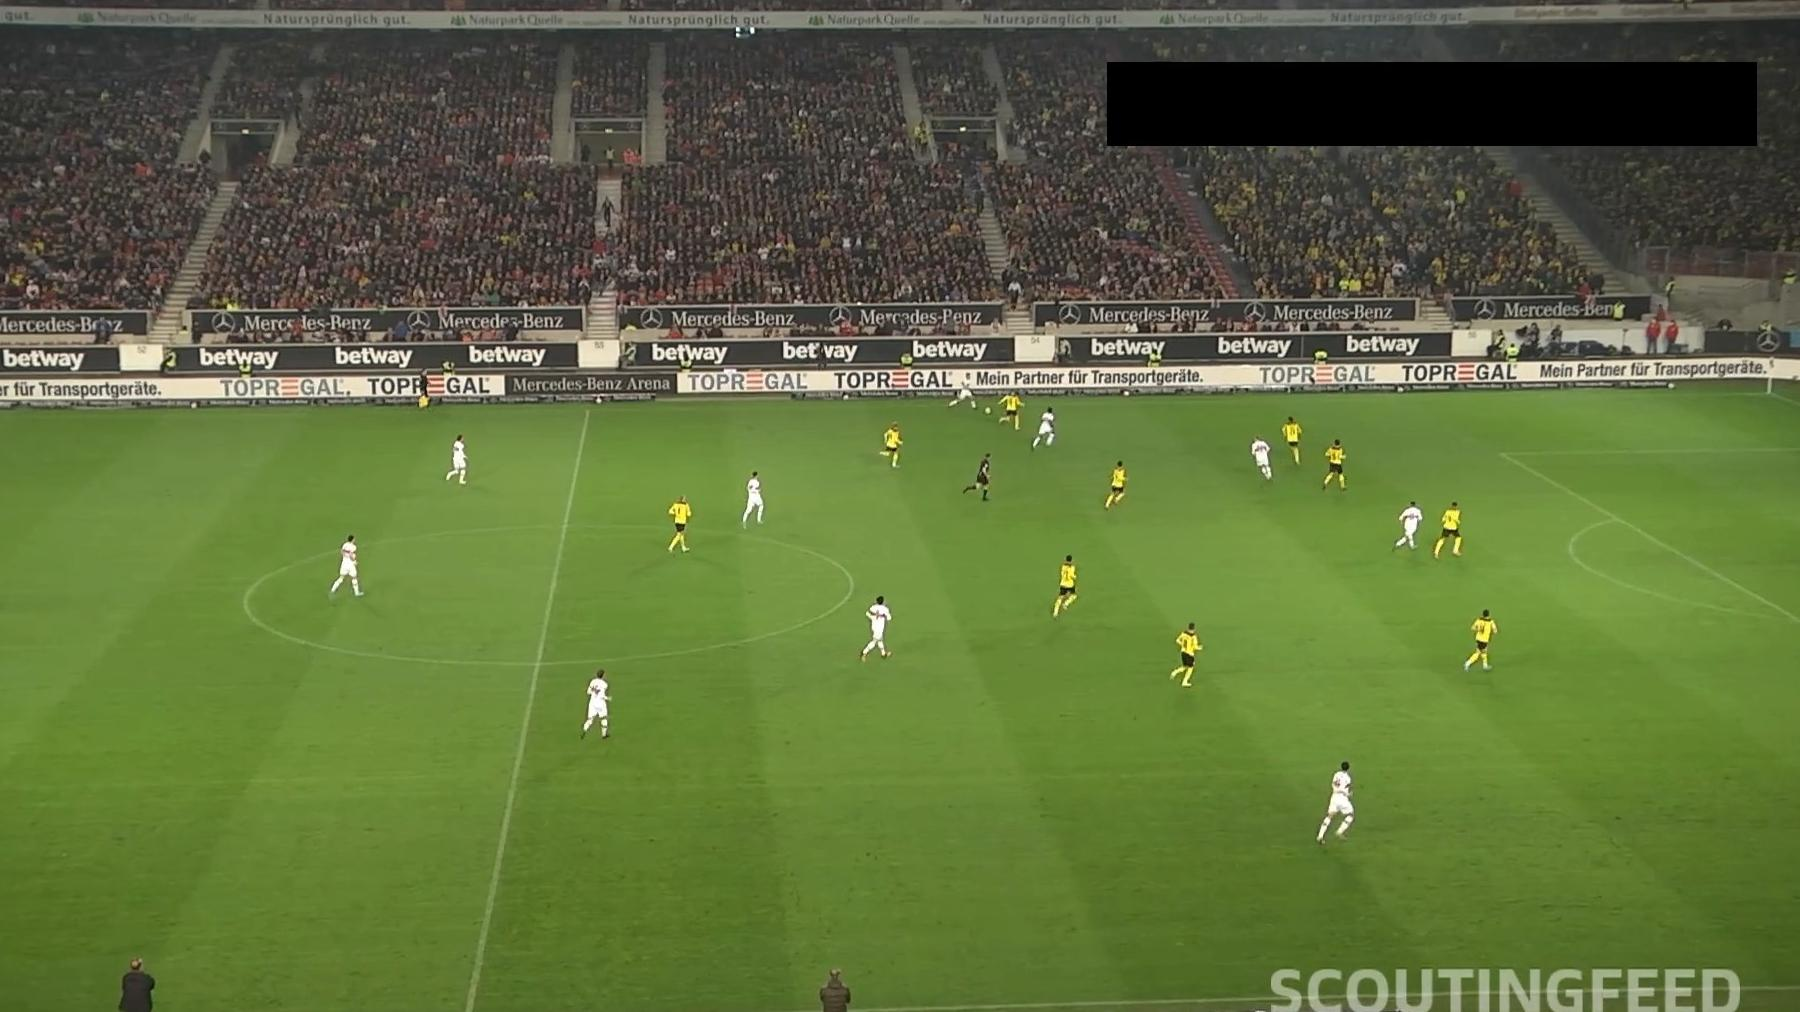ball: (984, 405, 993, 415)
